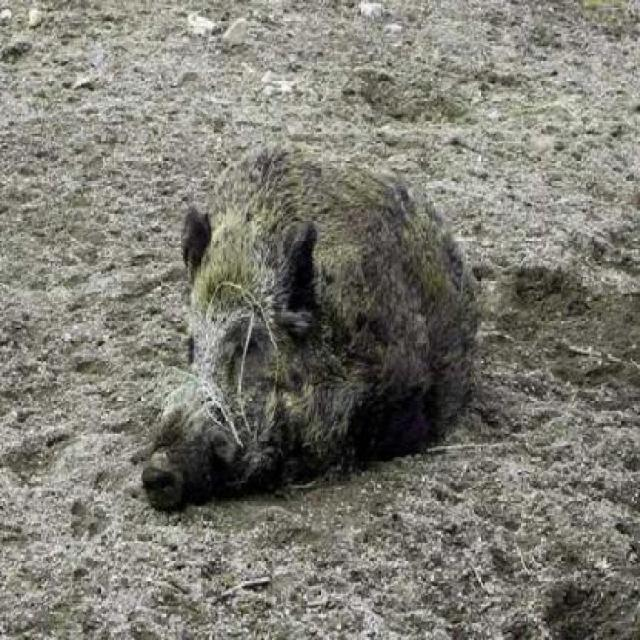pig: (149, 115, 500, 518)
